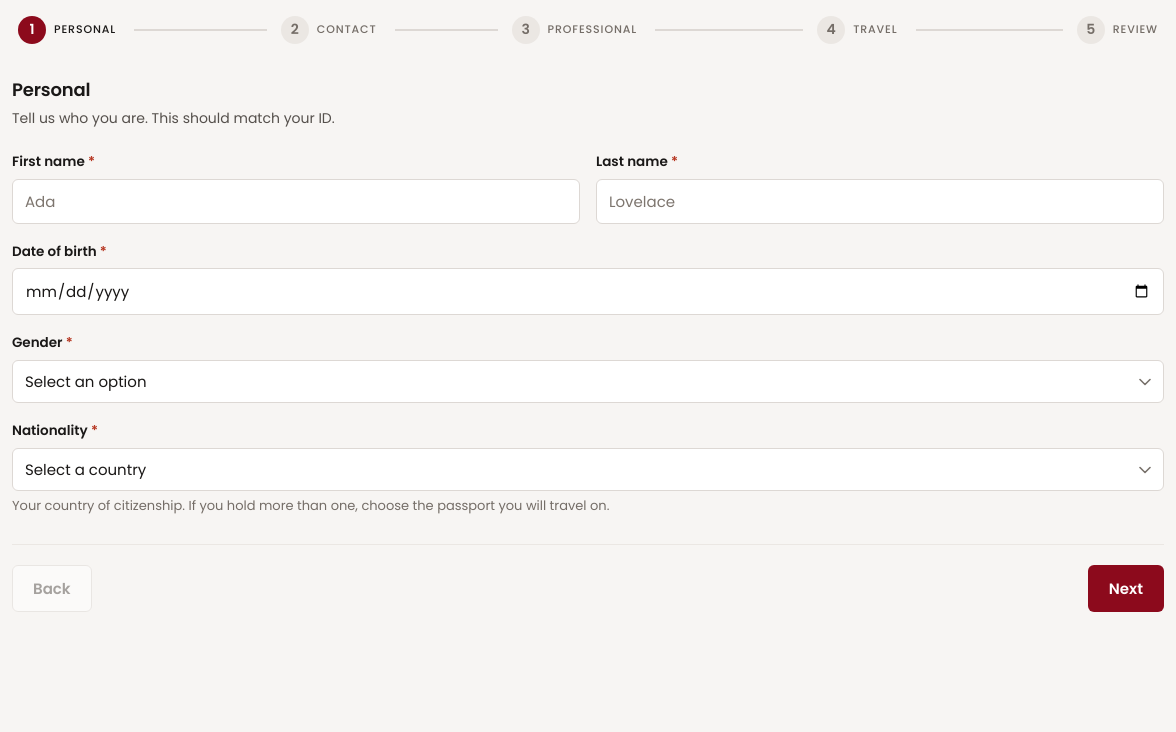
Scenario: conditional questions › asks how someone identifies only when they choose to self-describe
Expected: the field labelled "how do you identify" is not shown
Select "Prefer to self-describe" in the dropdown labelled "Gender *" at (588,382), box x1=12 y1=360 x2=1164 y2=403
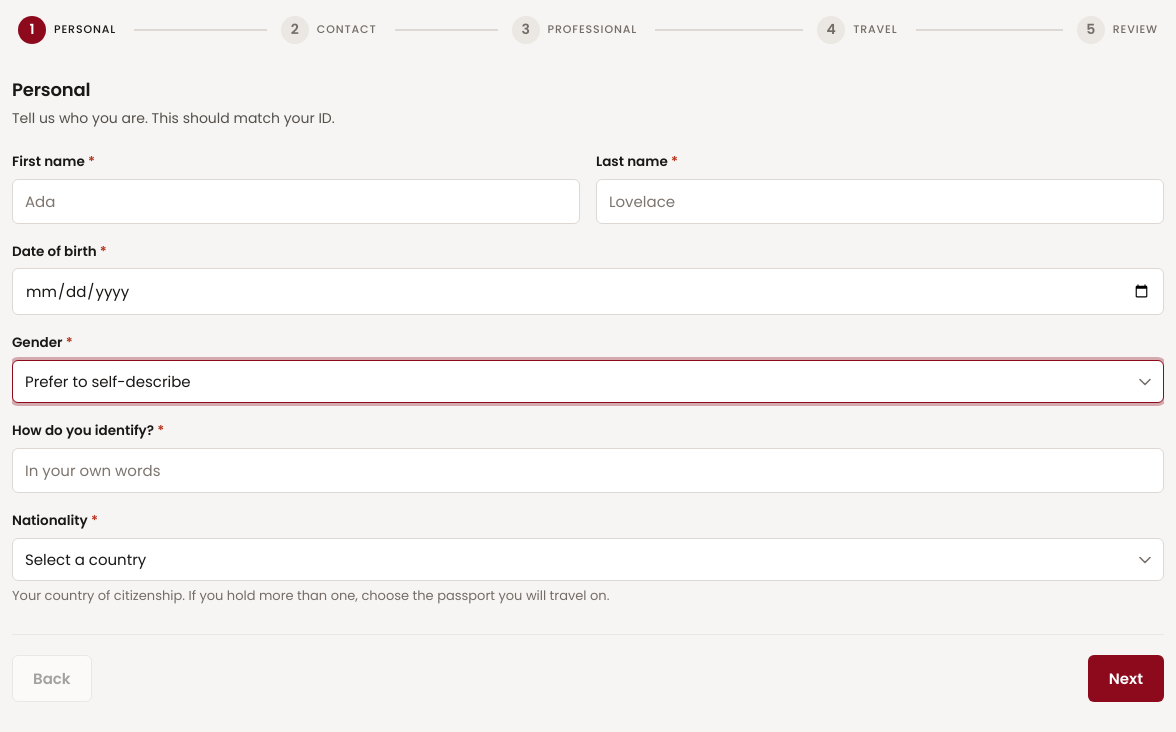
Result: the field labelled "How do you identify? *" is shown at x1=12 y1=448 x2=1164 y2=493
